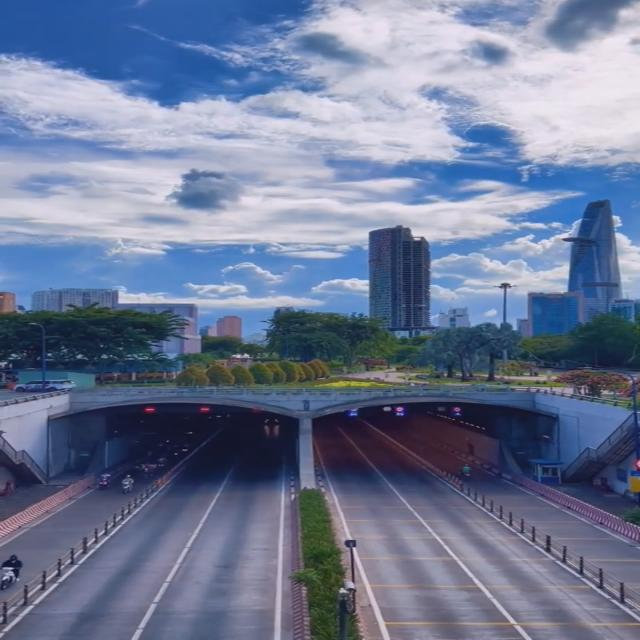motorbike: (0, 553, 22, 590), (118, 474, 138, 495), (97, 472, 111, 491), (458, 464, 472, 480)
